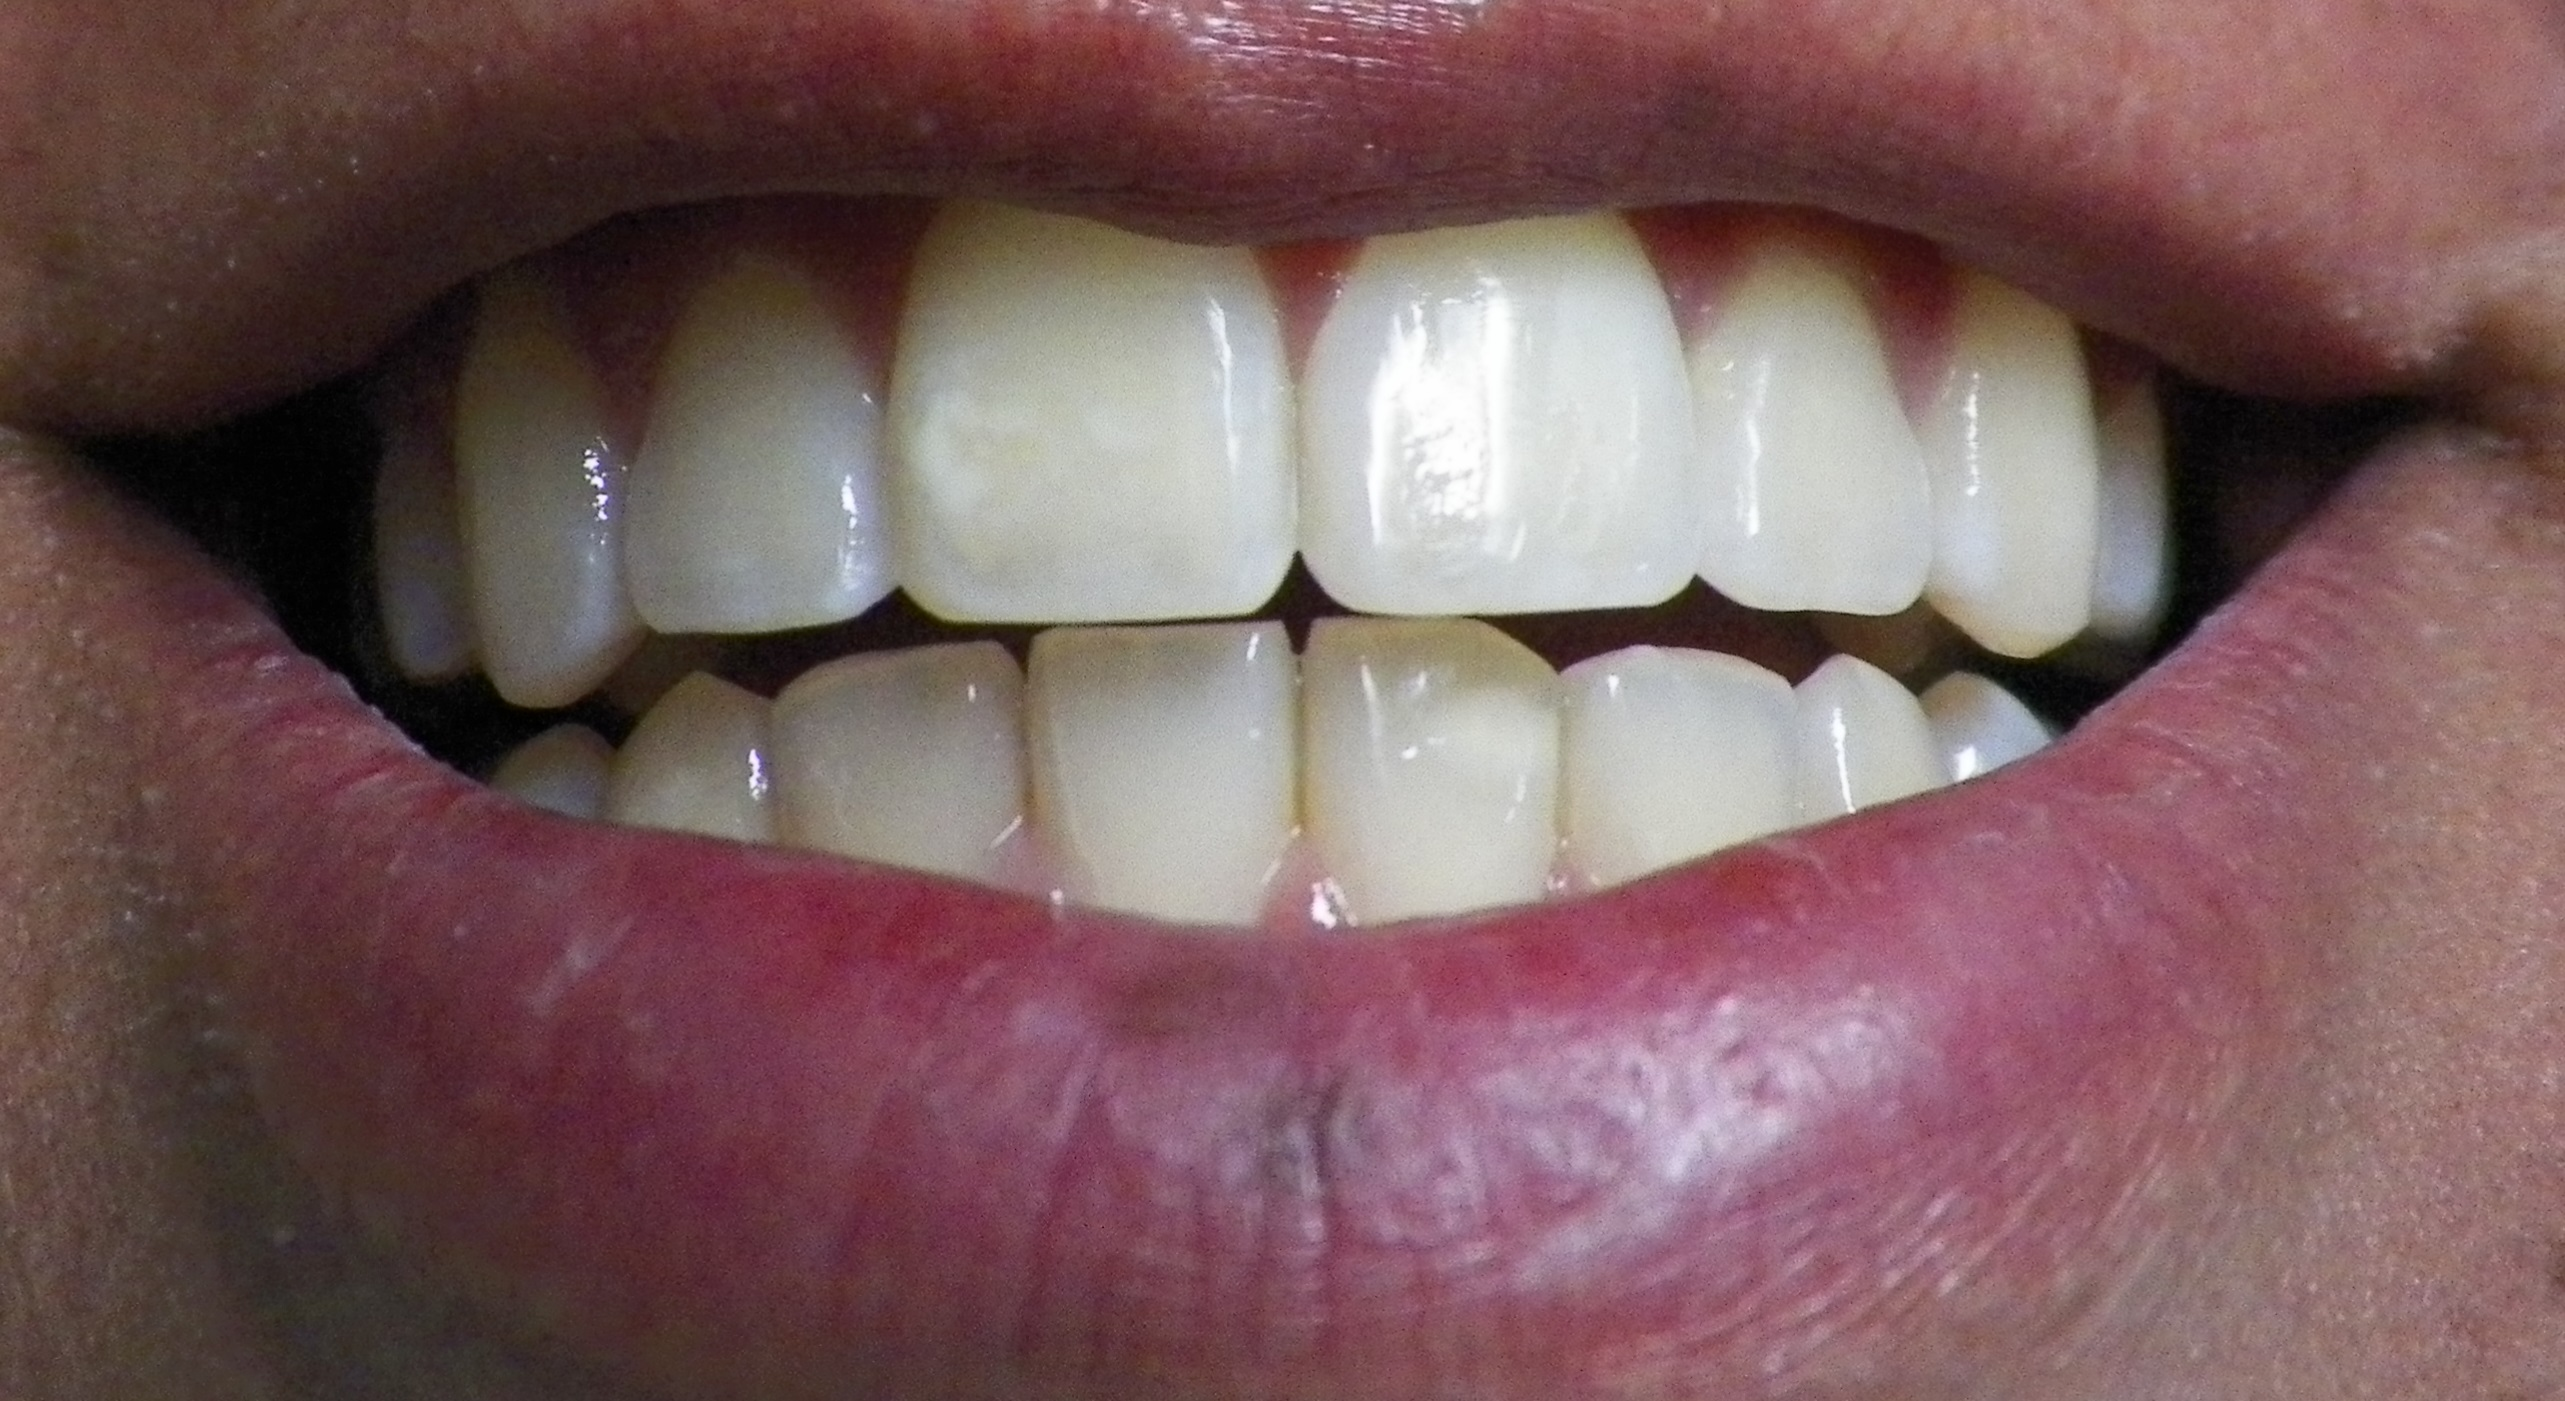boca: (369, 216, 2168, 927)
